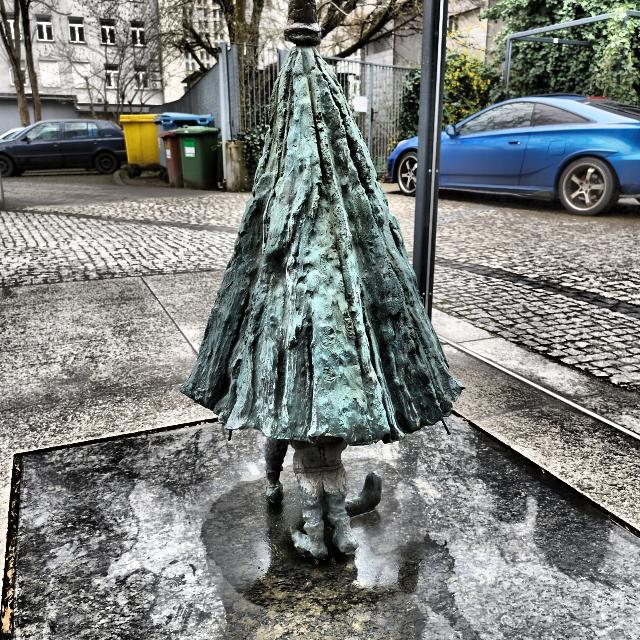Parasolniki: (182, 0, 467, 561)
